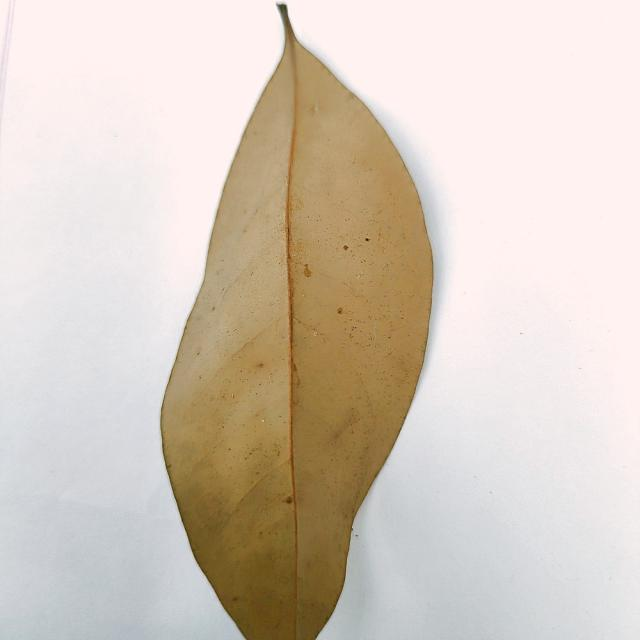Dry_Leaf-Lychee: (159, 5, 435, 639)
